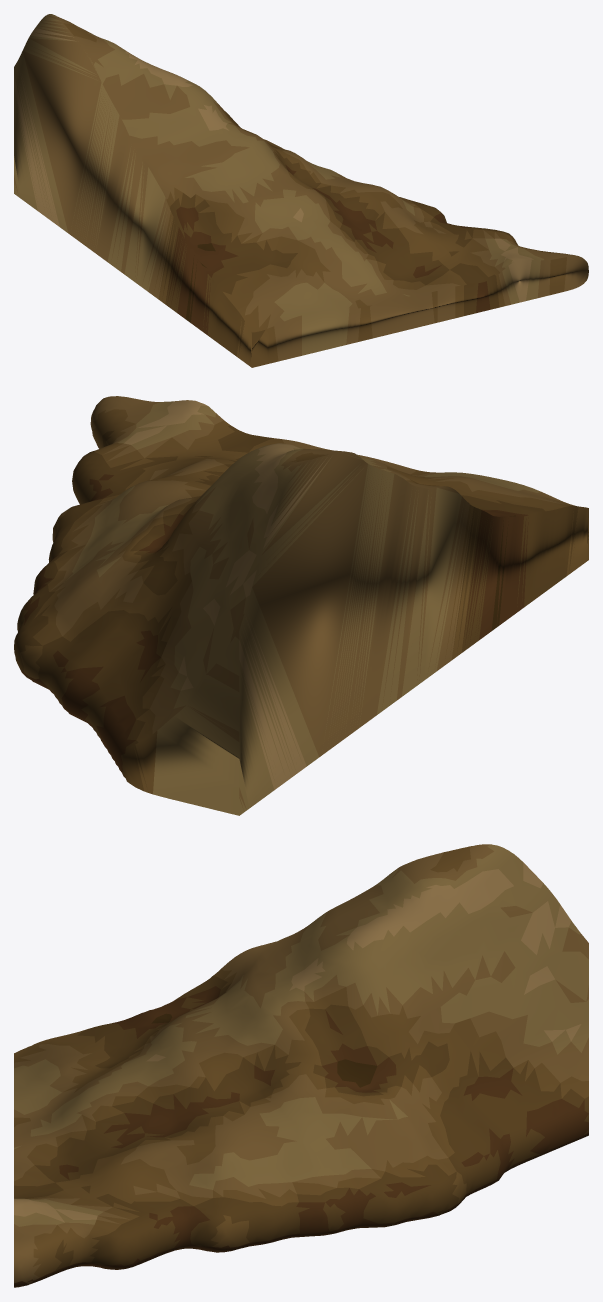
Rendered from rock_arch_282.glb.
The picture shows the model from 3 angles, top to bottom: view 1: azimuth 30°, elevation 25°; view 2: azimuth 150°, elevation 25°; view 3: azimuth 270°, elevation 25°; orthographic projection. The views are drawn at different scales.
Parts seen in each view (by area): view 1: rock_arch_282; view 2: rock_arch_282; view 3: rock_arch_282.
Boxes of the visible parts, <box> form: rock_arch_282: <box>14,14,588,367</box>; rock_arch_282: <box>14,396,588,815</box>; rock_arch_282: <box>14,844,588,1287</box>.
Size of the model in its own units: 22.88 by 13.53 by 28.
